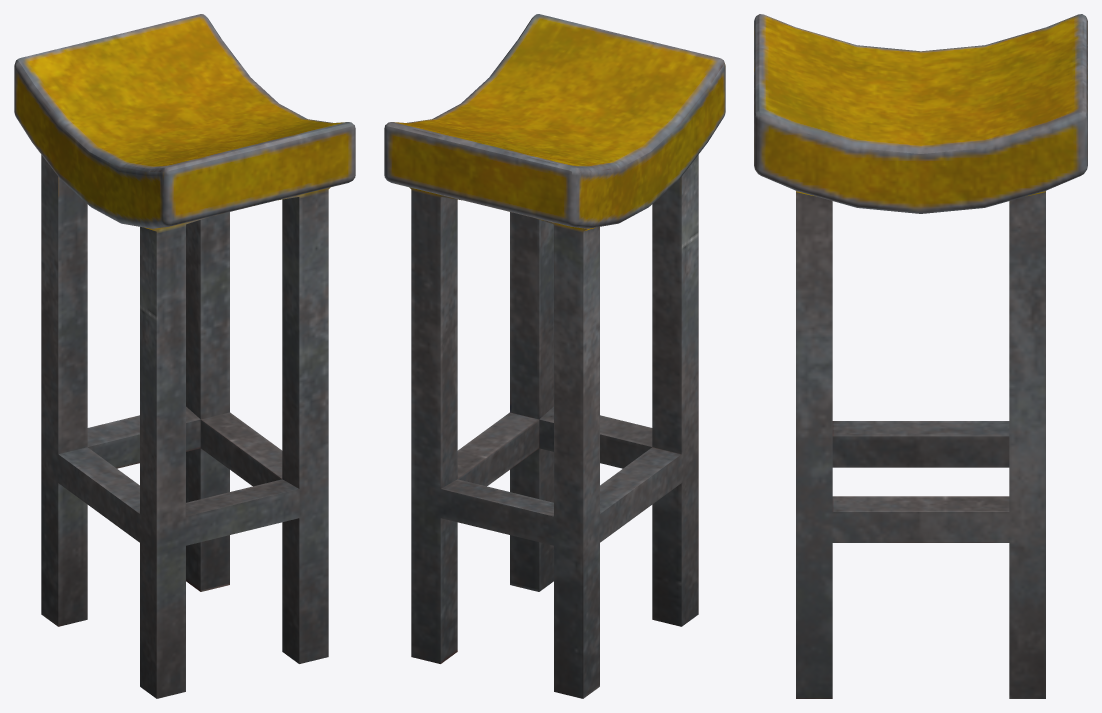
The model's file is SM_Misc_LP_pCube2.fbx.
The picture shows the model from 3 angles, left to right: view 1: azimuth 30°, elevation 25°; view 2: azimuth 150°, elevation 25°; view 3: azimuth 270°, elevation 25°; orthographic projection. The views are drawn at different scales.
Visible parts, largest first — view 1: SM_Misc_LP_pCube2_LOD0; view 2: SM_Misc_LP_pCube2_LOD0; view 3: SM_Misc_LP_pCube2_LOD0.
Part boxes in pixels (x1,y1,x2,y2): SM_Misc_LP_pCube2_LOD0: (14,14,355,698); SM_Misc_LP_pCube2_LOD0: (384,14,725,698); SM_Misc_LP_pCube2_LOD0: (754,14,1087,698).
Size of the model in its own units: 33.2 by 45.78 by 89.47.
1 material, 1 textured.
